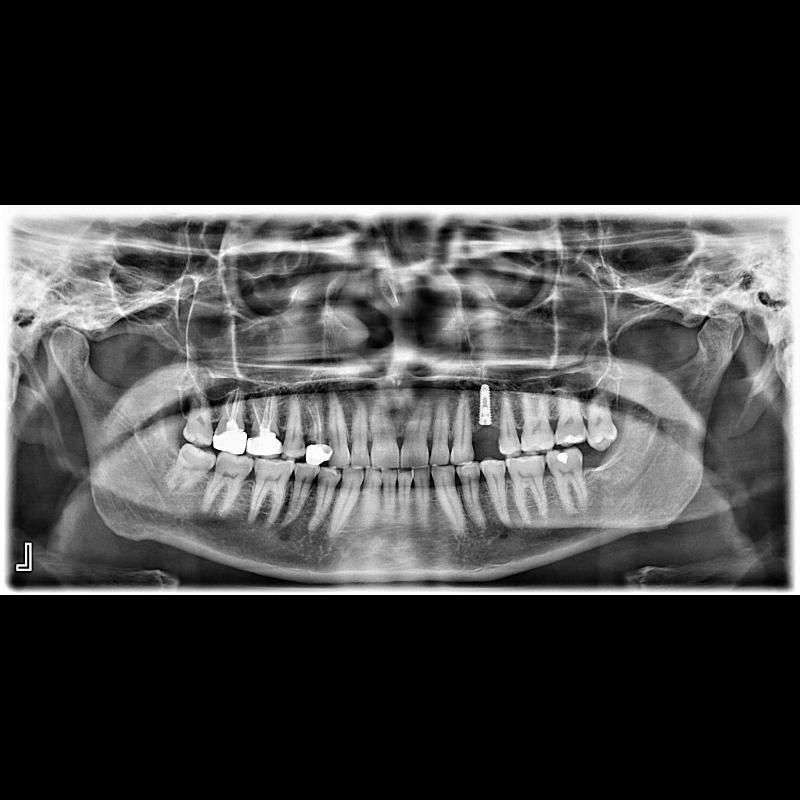osstem: (476, 380, 498, 431)
